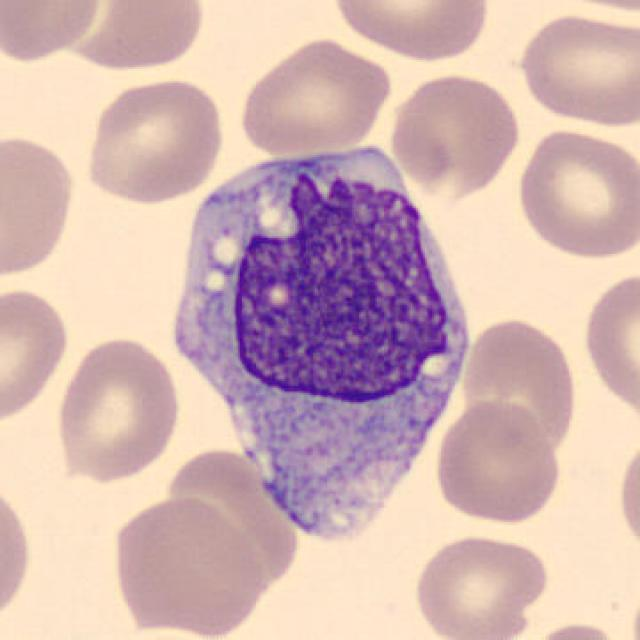Monocyte: (160, 125, 480, 552)
RBC: (106, 490, 268, 638), (165, 441, 303, 595), (52, 332, 183, 486), (233, 34, 393, 158), (80, 74, 228, 206), (457, 314, 581, 460), (386, 69, 522, 199), (512, 125, 638, 261), (432, 399, 564, 527), (411, 530, 553, 640), (512, 10, 638, 128), (0, 129, 80, 282), (59, 0, 210, 74), (0, 282, 73, 429), (327, 0, 492, 63), (580, 266, 638, 423), (0, 0, 107, 65), (0, 471, 36, 633), (613, 430, 640, 561), (524, 619, 626, 640)
